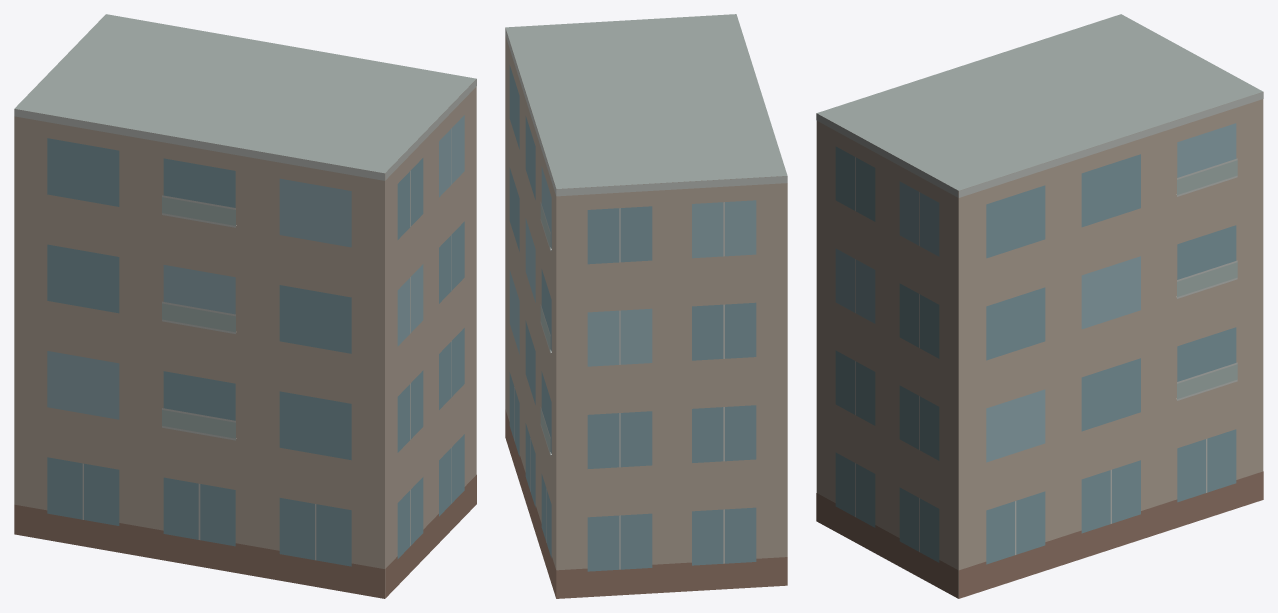
File: survey-upis-32908459.glb
The picture shows the model from 3 angles, left to right: view 1: azimuth 30°, elevation 25°; view 2: azimuth 150°, elevation 25°; view 3: azimuth 270°, elevation 25°; orthographic projection. The views are drawn at different scales.
Parts seen in each view (by area): view 1: survey-upis-32908459.tmp; view 2: survey-upis-32908459.tmp; view 3: survey-upis-32908459.tmp.
Boxes of the visible parts, box(x1,y1,x2,y2) form: survey-upis-32908459.tmp: box(14, 14, 476, 598); survey-upis-32908459.tmp: box(505, 14, 787, 598); survey-upis-32908459.tmp: box(816, 14, 1263, 598).
Bounding box in the file's own units: 12.74 × 13.7 × 13.61.
